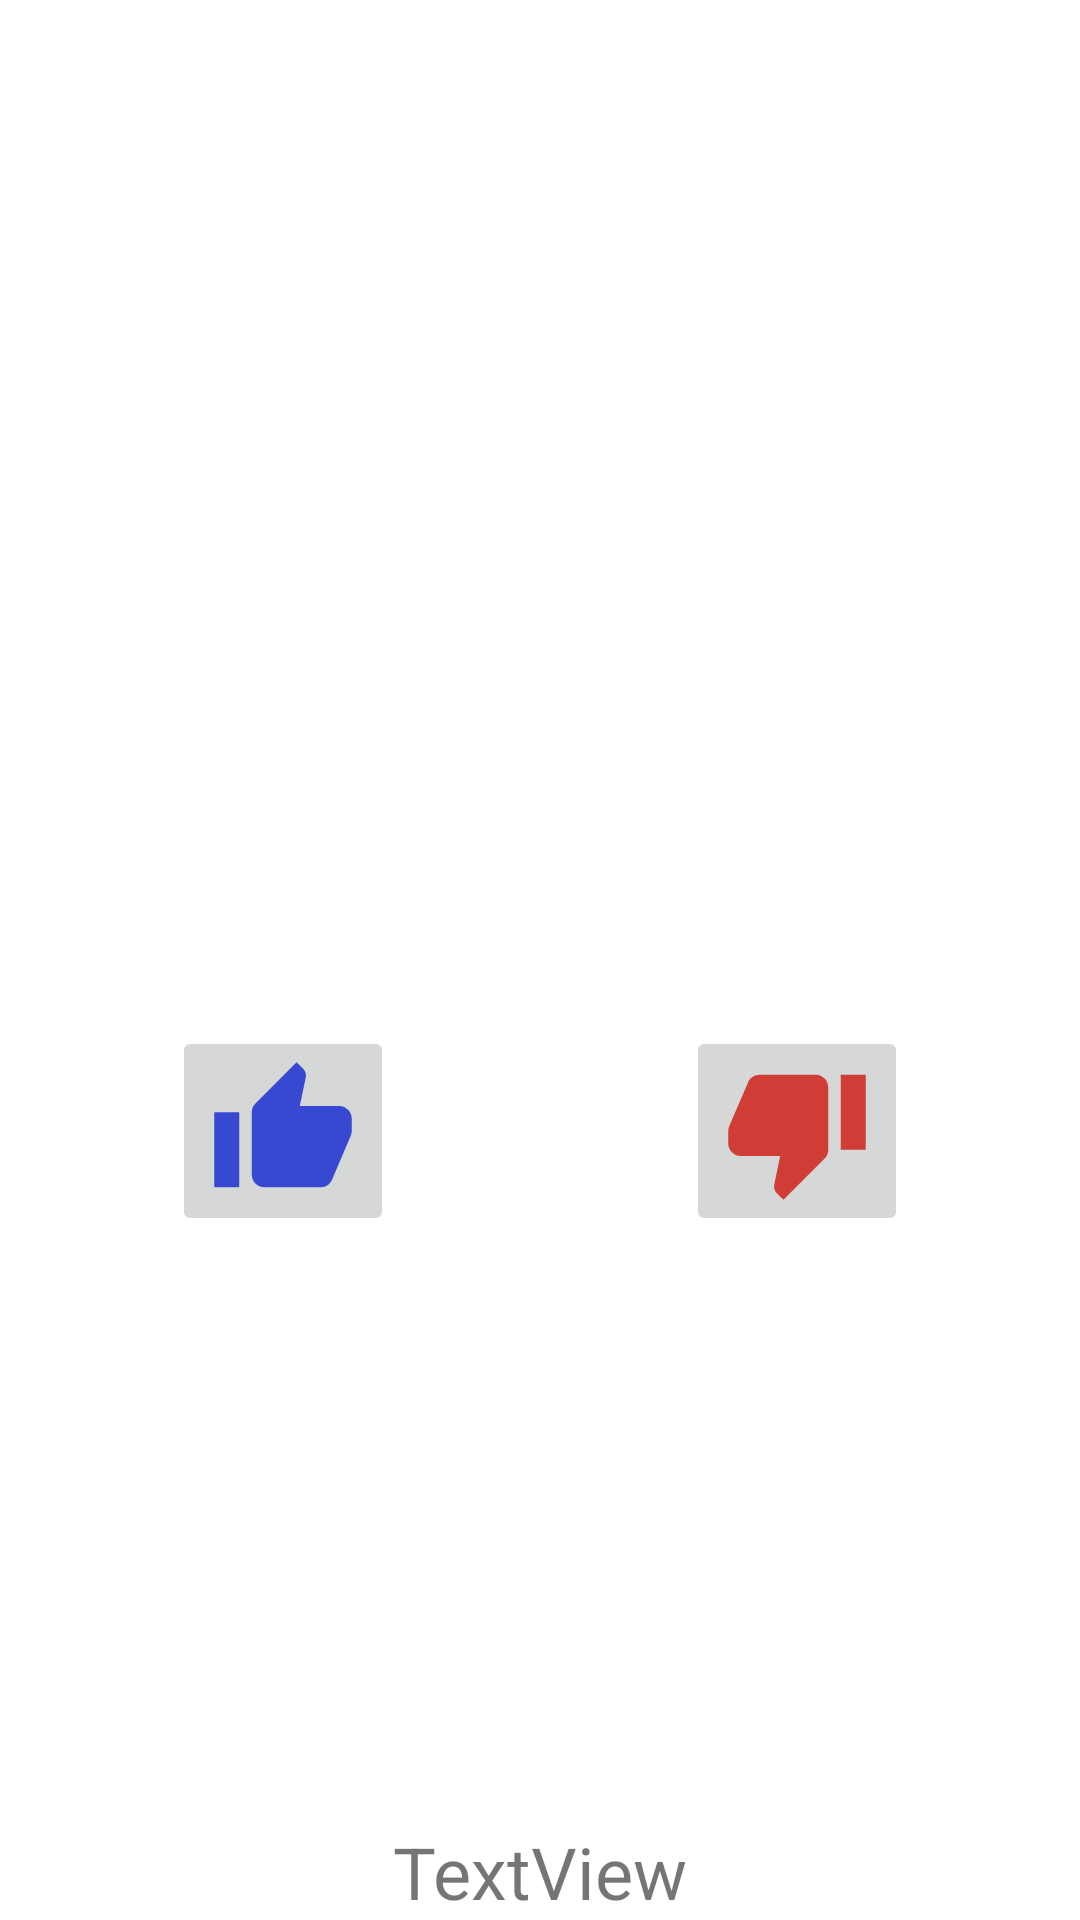

Point at icon controls on the screen. Image size 1080px x 1920px, points as point (x, y).
thumb down: point (797, 1131)
thumb up: point (283, 1131)
